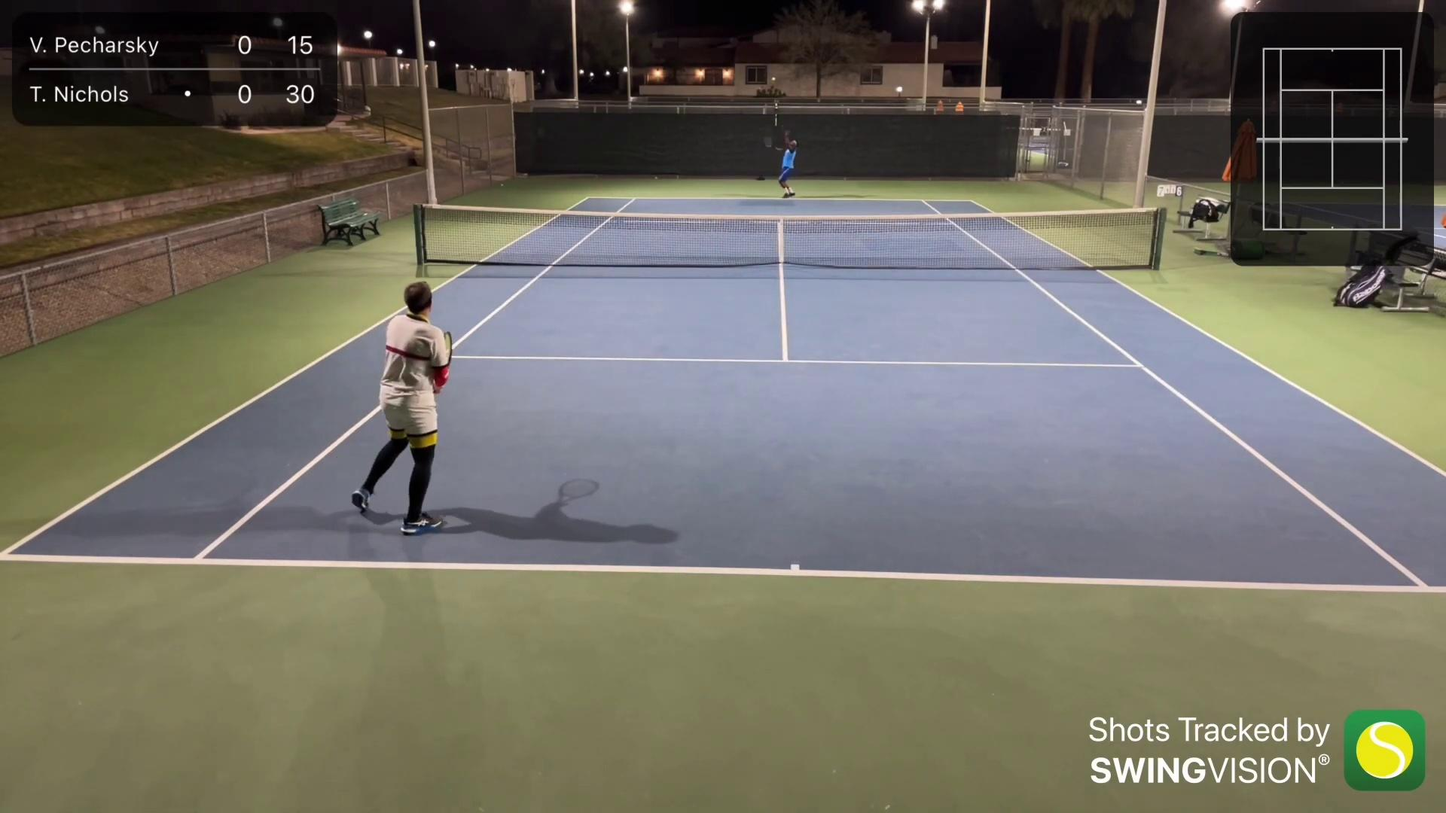ball: (771, 76, 776, 81)
